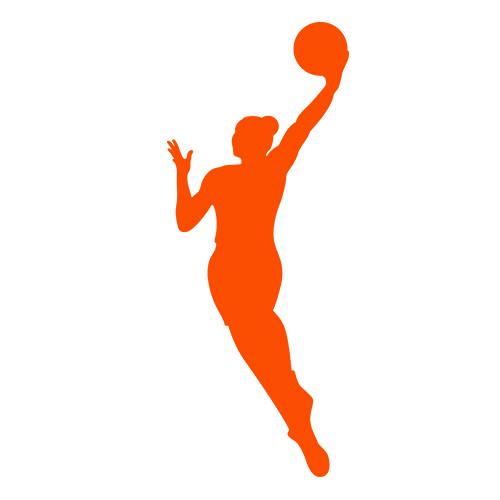b_ball: (288, 20, 352, 77)
face: (226, 114, 282, 163)
player: (150, 51, 356, 490)
